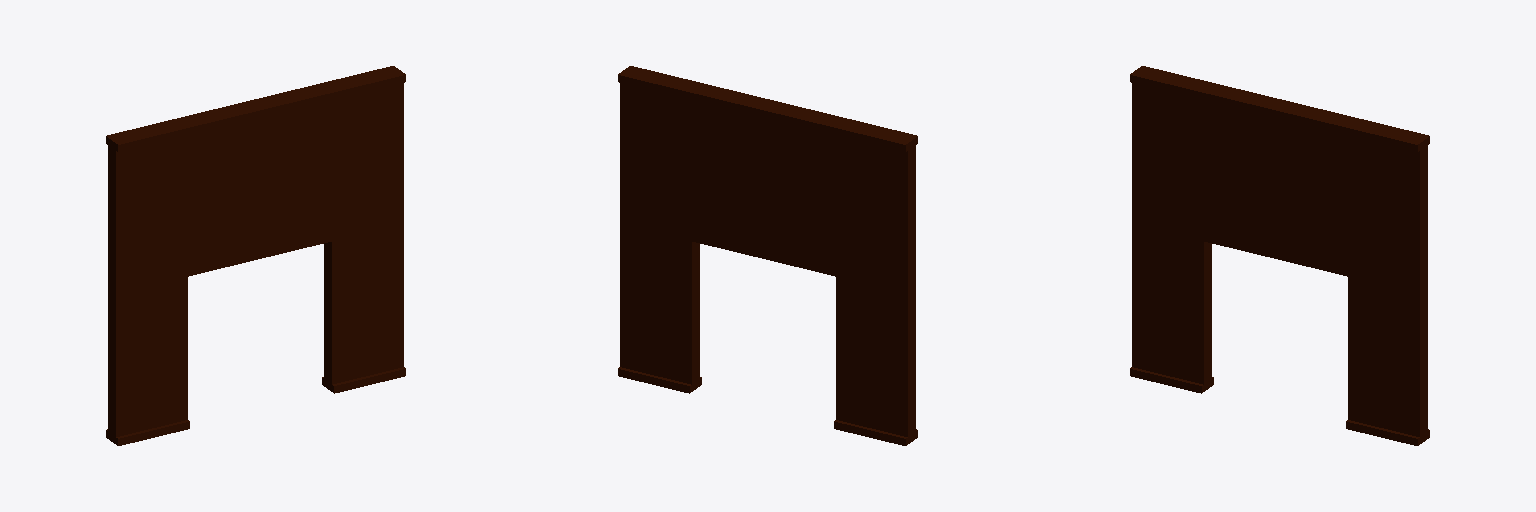
File: 8x8_wall_doorway.obj
3 renders of one model, left to right at view 1: azimuth 30°, elevation 25°; view 2: azimuth 150°, elevation 25°; view 3: azimuth 330°, elevation 25°, orthographic.
Parts seen in each view (by area): view 1: wall; view 2: wall; view 3: wall.
Part boxes in pixels (left/top/right/bottom): wall: left=106, top=66, right=405, bottom=445; wall: left=618, top=66, right=917, bottom=445; wall: left=1130, top=66, right=1429, bottom=445.
Size of the model in its own units: 8 by 8 by 0.607.